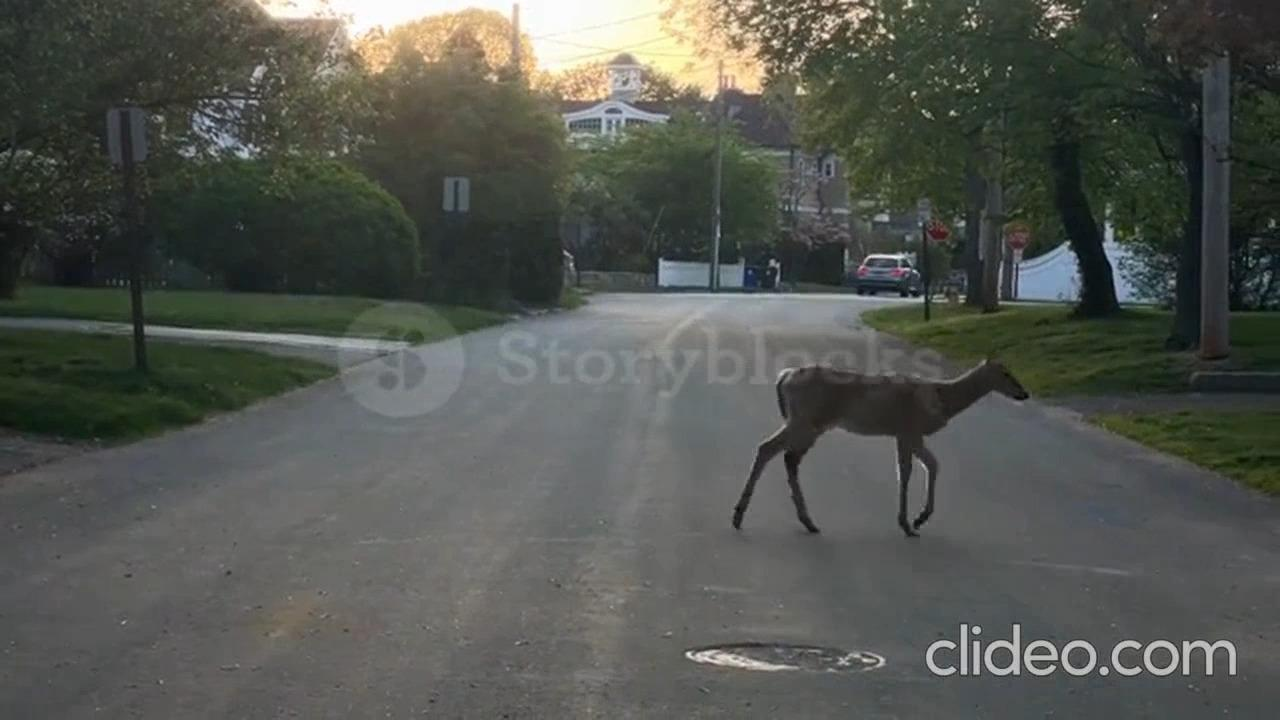deer: (742, 353, 1028, 542)
